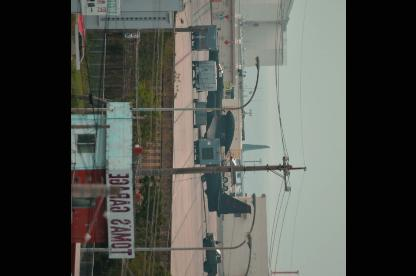Be200: (235, 144, 269, 198)
Tu160: (199, 32, 250, 218)
